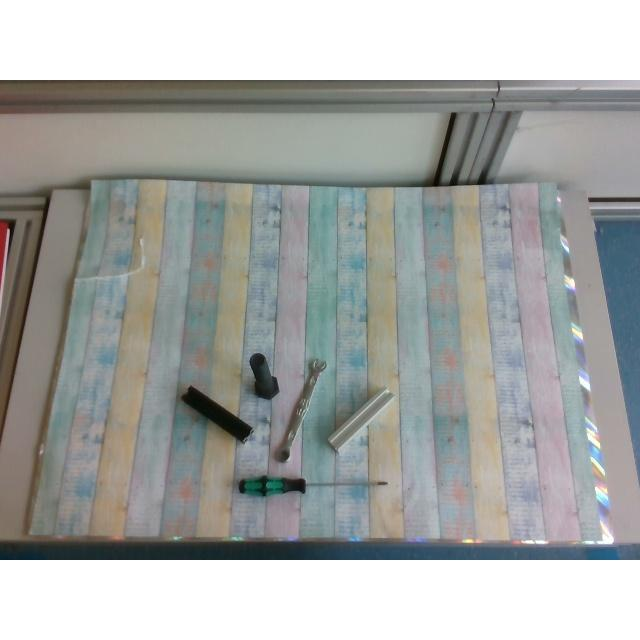F20_20_B: (180, 386, 252, 442)
F20_20_G: (328, 387, 396, 451)
M20_100: (250, 353, 278, 399)
Screwdriver: (240, 475, 388, 497)
Wrench: (274, 359, 326, 461)
